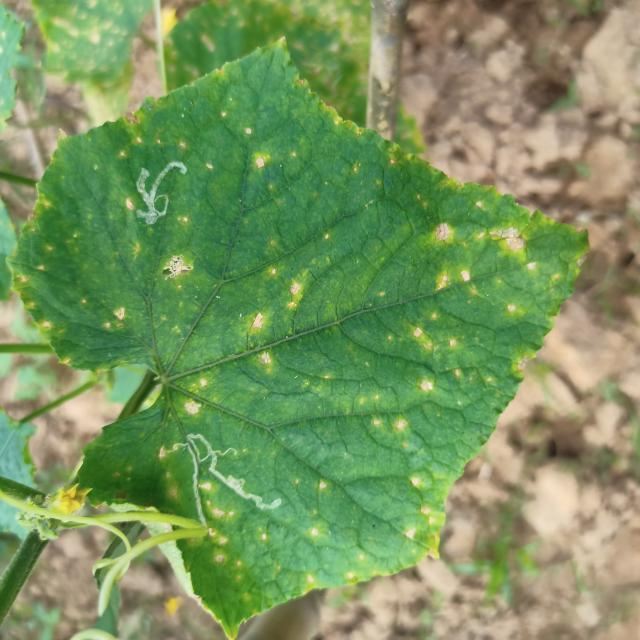disease_cucumber: (366, 168, 552, 539), (144, 386, 398, 592), (27, 226, 314, 373), (115, 115, 292, 179)
